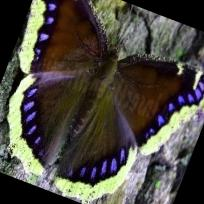butterfly: (7, 0, 204, 201)
